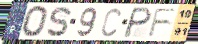9: (76, 6, 99, 38)
C: (100, 7, 122, 38)
F: (146, 8, 179, 38)
O: (20, 5, 50, 39)
P: (121, 6, 154, 39)
S: (45, 6, 72, 38)
